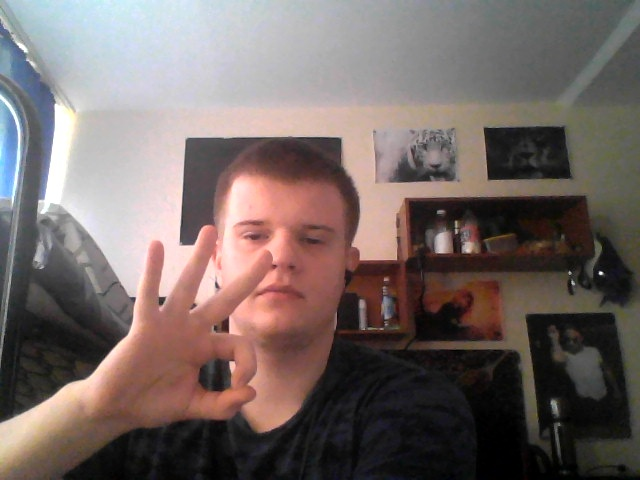ok: (107, 224, 276, 429)
